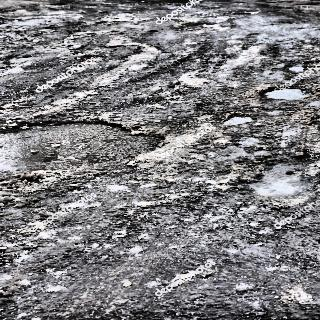pothole: (0, 110, 170, 186), (256, 80, 316, 105)
